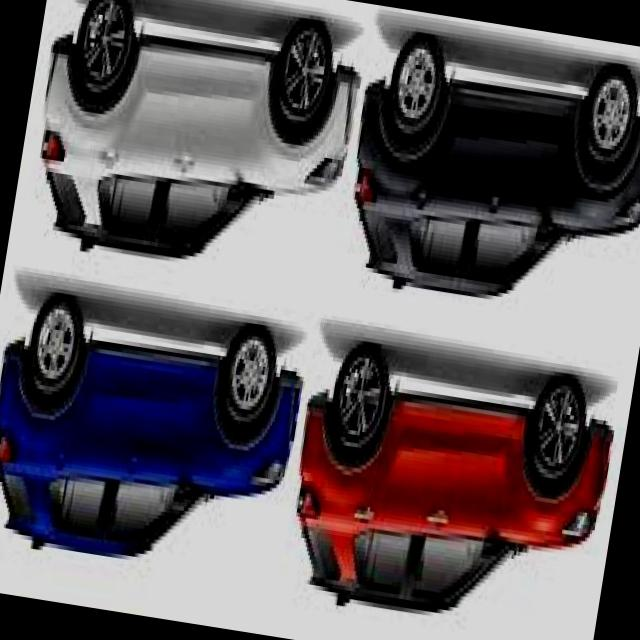PeroduaAtiva: (276, 334, 624, 640)
